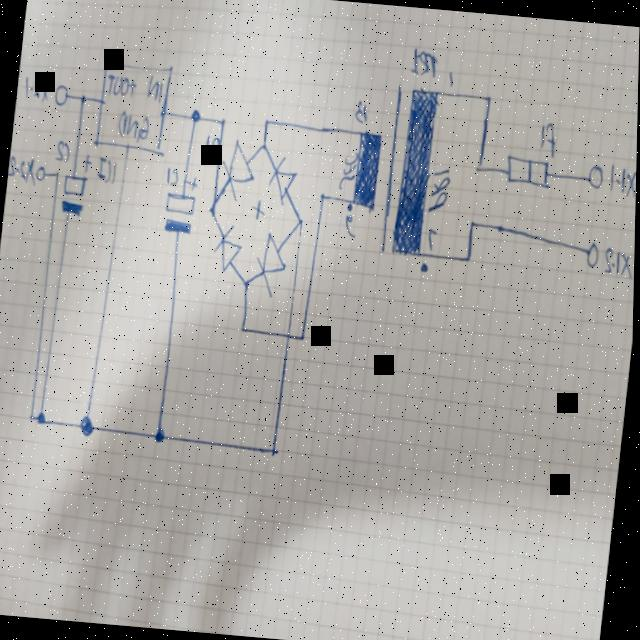capacitor: (163, 172, 201, 238), (59, 149, 94, 220)
crossover: (286, 327, 295, 342)
diode: (253, 230, 292, 299), (219, 139, 261, 203), (268, 153, 301, 207), (212, 222, 246, 274)
junction: (80, 412, 98, 437), (189, 104, 205, 126), (156, 424, 170, 444), (474, 158, 486, 174), (208, 201, 219, 218), (78, 88, 89, 105), (484, 90, 495, 104), (464, 250, 475, 264), (271, 444, 282, 458), (469, 215, 479, 230), (299, 329, 309, 344), (244, 274, 253, 290), (39, 410, 49, 424), (263, 114, 273, 128), (219, 114, 229, 128), (297, 213, 306, 228), (241, 320, 250, 335), (319, 189, 329, 202), (261, 138, 270, 152), (30, 411, 38, 424), (55, 168, 63, 180)
terminal: (587, 162, 607, 190), (586, 240, 603, 268), (54, 82, 70, 106), (35, 162, 49, 182)
text: (428, 164, 453, 218), (117, 108, 153, 142), (409, 45, 441, 79), (105, 69, 142, 98), (604, 246, 635, 278), (608, 162, 637, 196), (338, 148, 360, 192), (8, 154, 39, 184), (23, 72, 52, 101), (539, 119, 560, 156), (95, 154, 120, 185), (203, 132, 225, 163), (145, 72, 165, 101), (426, 220, 442, 252), (251, 196, 269, 223), (55, 138, 74, 163), (344, 211, 360, 239), (354, 98, 371, 124), (165, 163, 182, 186), (447, 66, 456, 88)
transformer: (339, 78, 451, 274)
